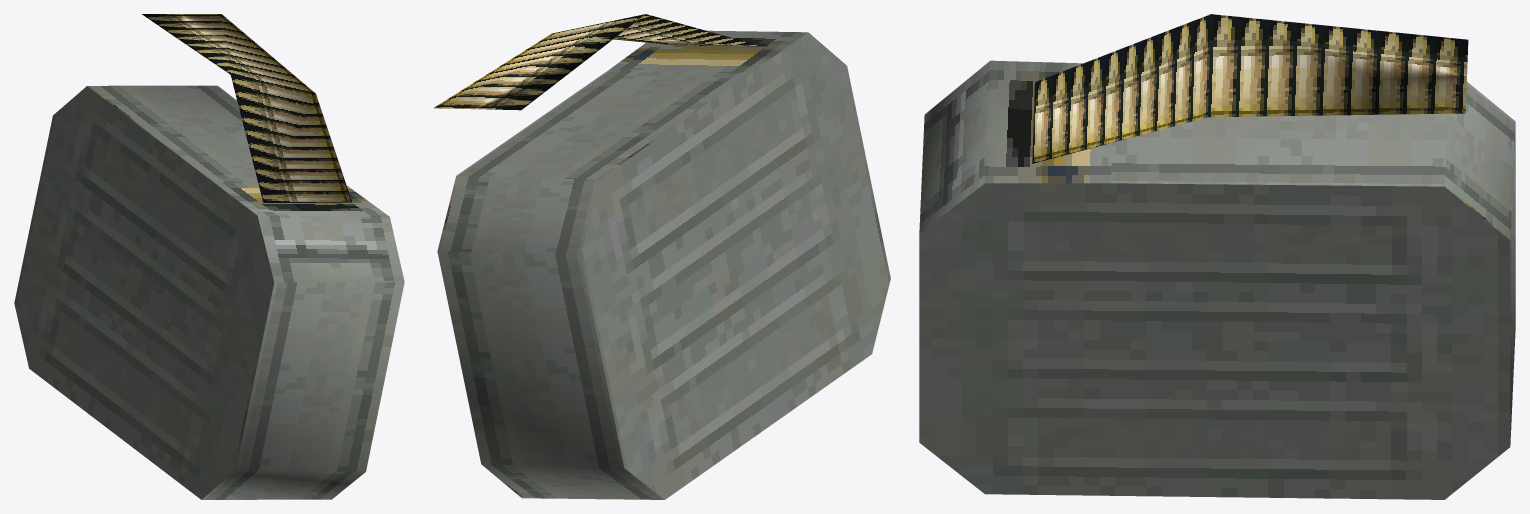
Rendered from LMG_PK_CLIP.glb.
3 views of the same model, side by side, from view 1: azimuth 30°, elevation 25°; view 2: azimuth 150°, elevation 25°; view 3: azimuth 270°, elevation 25° (orthographic). The views are drawn at different scales.
Visible parts, largest first — view 1: LMG_PK_CLIP; view 2: LMG_PK_CLIP; view 3: LMG_PK_CLIP.
Part boxes in pixels (left/top/right/bottom): LMG_PK_CLIP: left=14, top=14, right=404, bottom=499; LMG_PK_CLIP: left=433, top=14, right=890, bottom=499; LMG_PK_CLIP: left=919, top=14, right=1515, bottom=499.
Size of the model in its own units: 0.116 by 0.199 by 0.227.
Materials: 2 (2 with a texture image).
